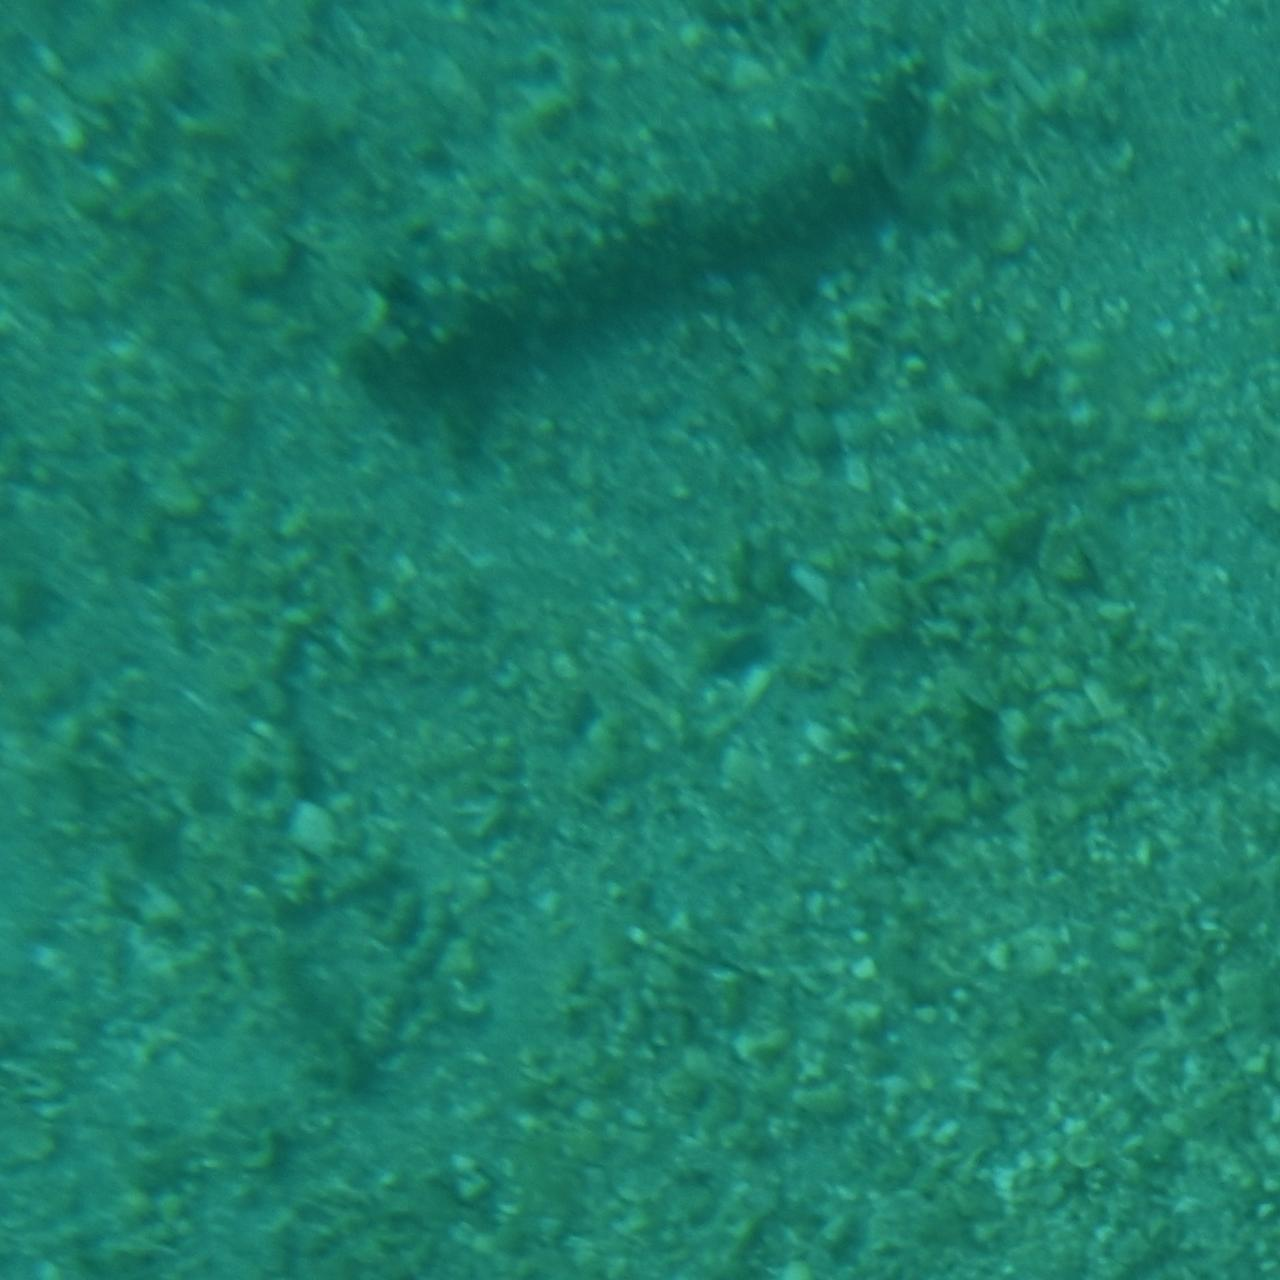Holothuria tubulosa: (328, 36, 952, 428)
